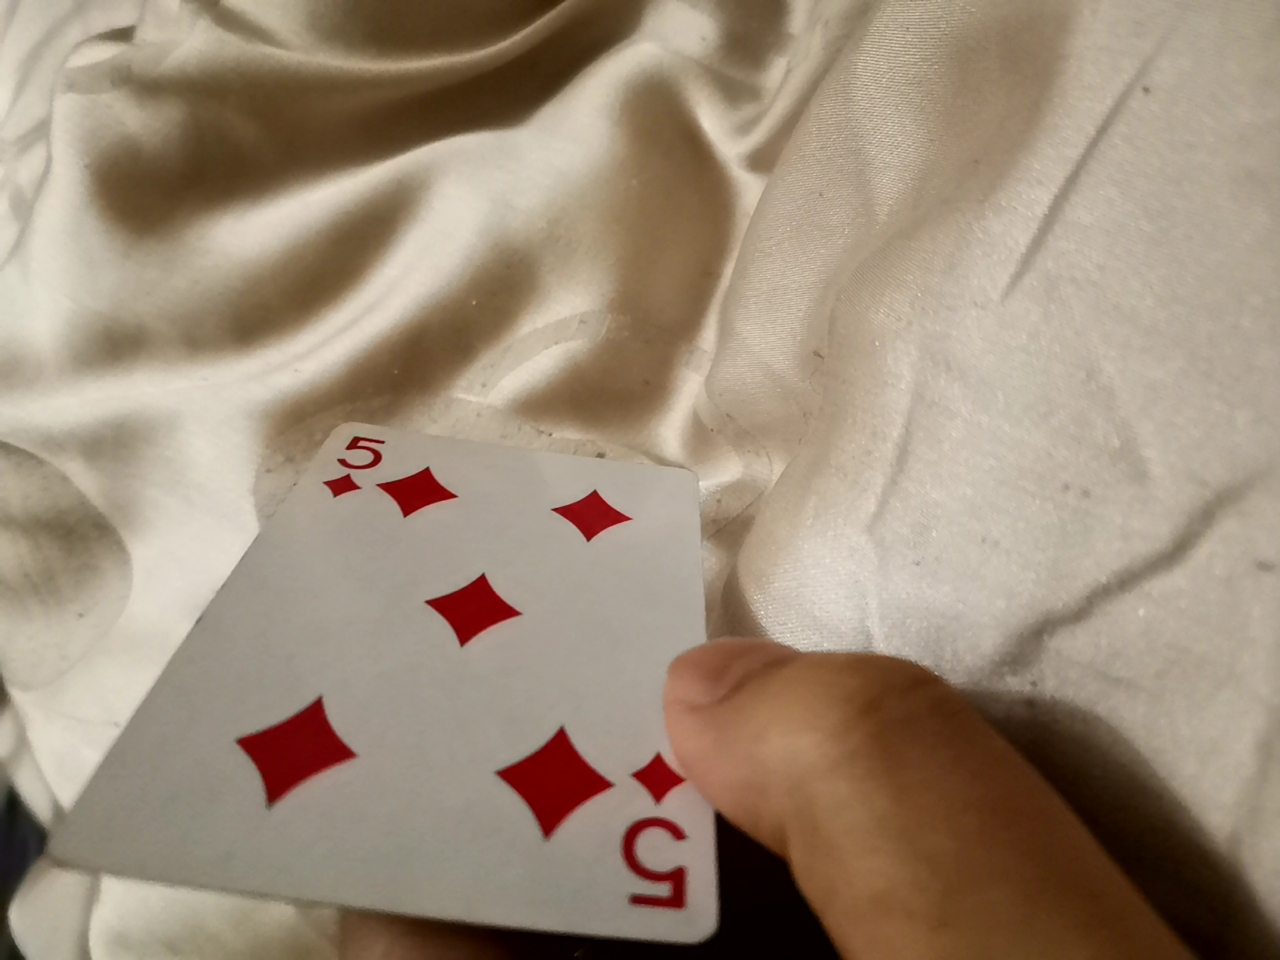fk 5: (109, 413, 740, 952)
